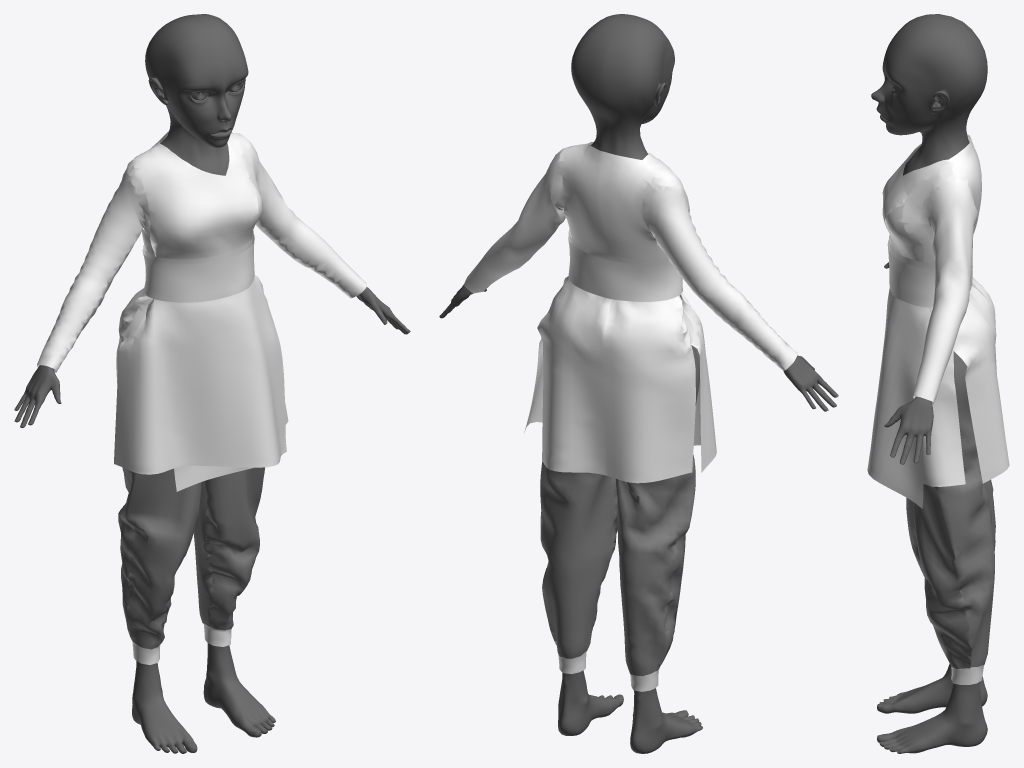
The model's file is character-1-CLOTH.fbx.
3 renders of one model, left to right at view 1: azimuth 30°, elevation 25°; view 2: azimuth 150°, elevation 25°; view 3: azimuth 270°, elevation 25°, orthographic.
Parts seen in each view (by area): view 1: character-1-CLOTH, body; view 2: character-1-CLOTH, body; view 3: character-1-CLOTH, body.
Part boxes in pixels (x1=…): character-1-CLOTH: x1=37, y1=131, x2=366, y2=664; body: x1=14, y1=14, x2=410, y2=753; character-1-CLOTH: x1=464, y1=142, x2=797, y2=691; body: x1=439, y1=14, x2=838, y2=753; character-1-CLOTH: x1=867, y1=134, x2=1009, y2=684; body: x1=871, y1=14, x2=987, y2=753.
Bounding box in the file's own units: 2.38 × 4.14 × 0.7533.
Materials: 4 (1 with a texture image).
